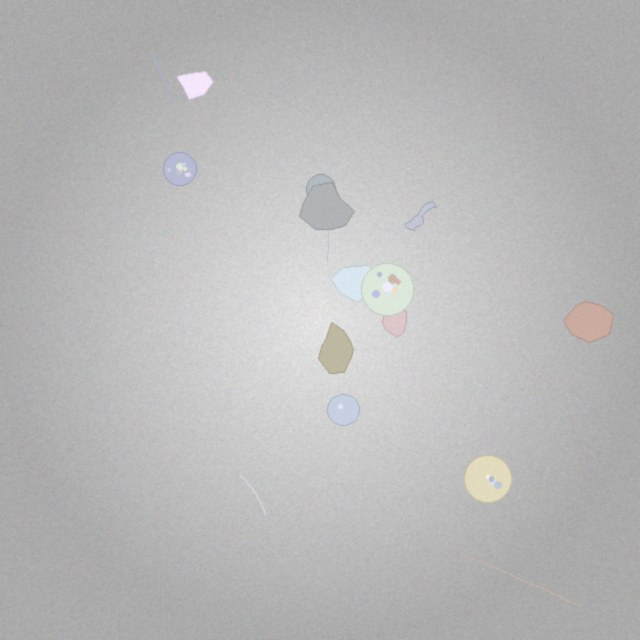fiber: (460, 550, 584, 608), (149, 49, 176, 103), (239, 475, 267, 517), (326, 221, 331, 263)
film: (404, 202, 437, 230)
foam: (361, 263, 414, 316), (465, 455, 512, 502), (163, 153, 196, 186)
fragment: (300, 183, 355, 229), (563, 301, 613, 342), (330, 266, 380, 303), (318, 322, 354, 373), (177, 72, 213, 99), (383, 308, 406, 337)
pellet: (328, 394, 359, 425), (306, 175, 336, 204)
